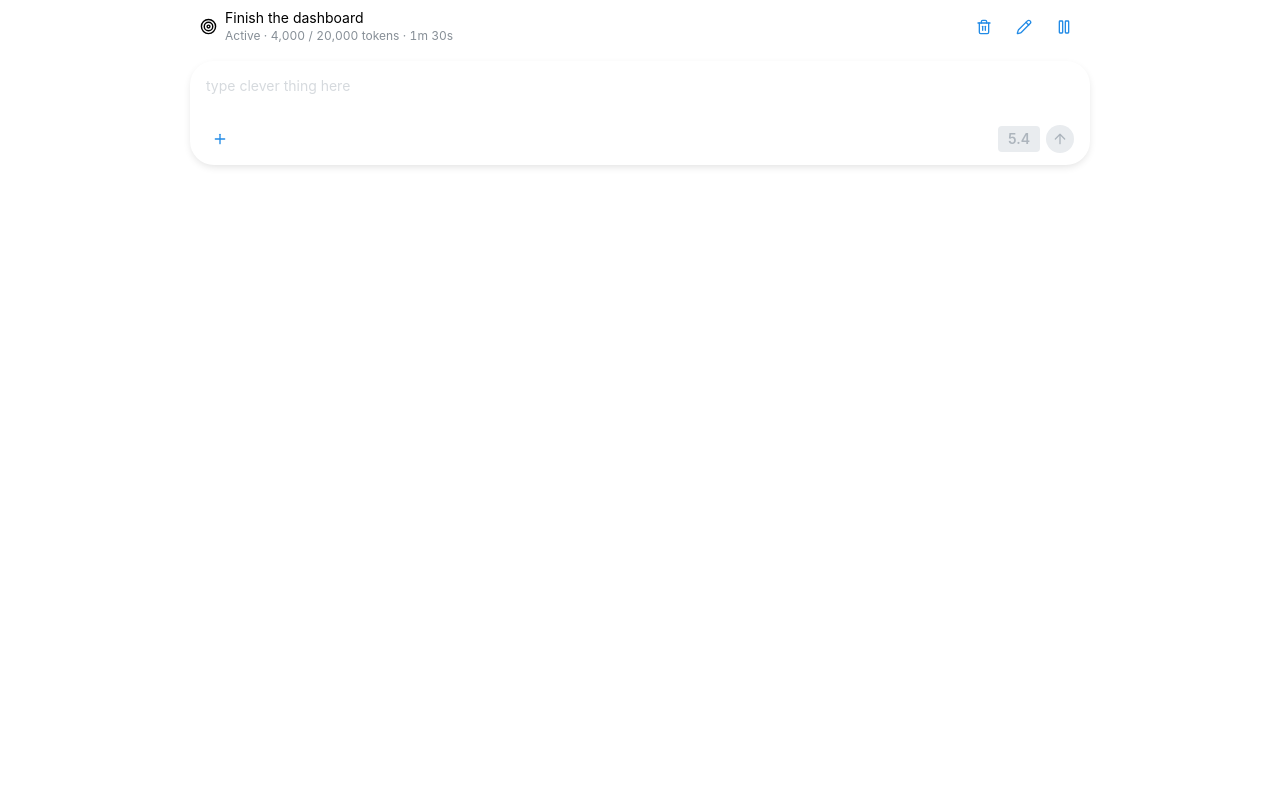
composer goals › does not leave the goal portal visible after its pane becomes inactive
Click the button named "Manage goal: Active" at [1024, 26], box [1008,10,1040,42]
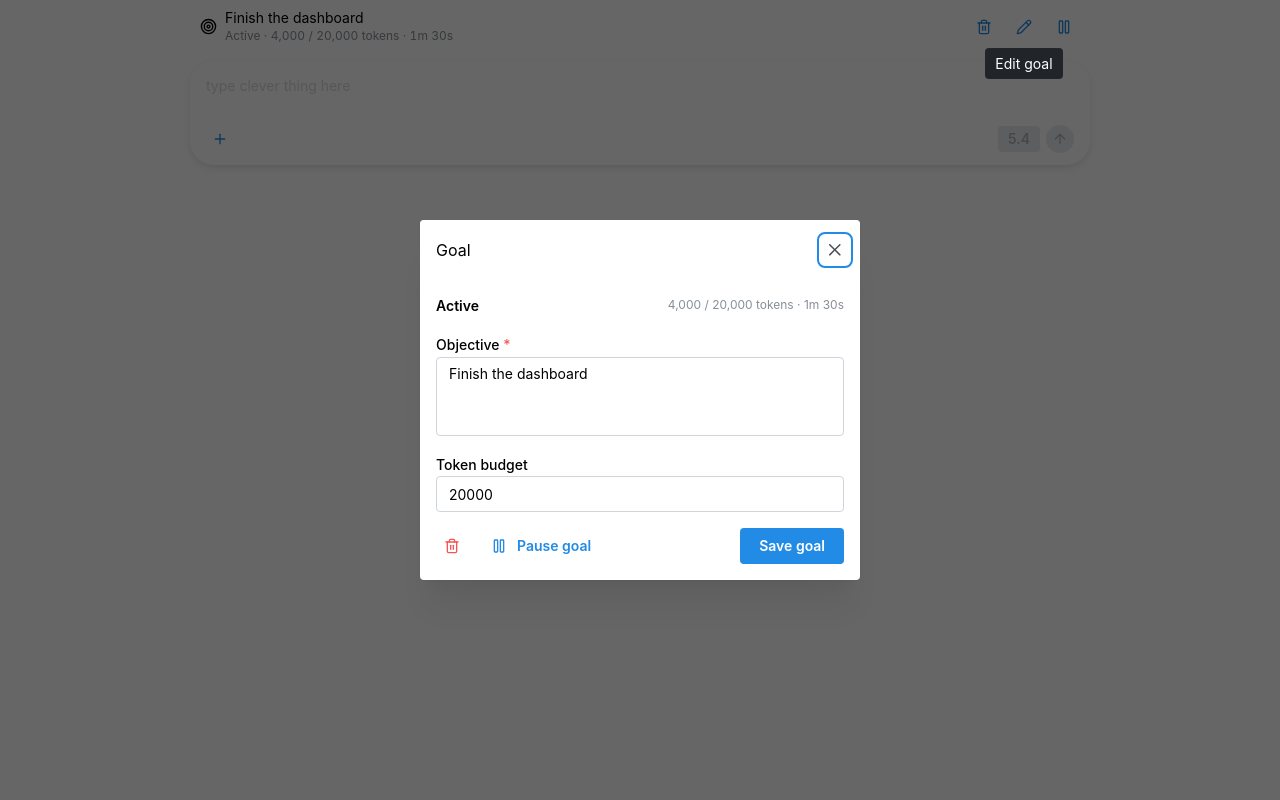
Expected: the dialog "Goal" is shown, [420,220,860,580]
